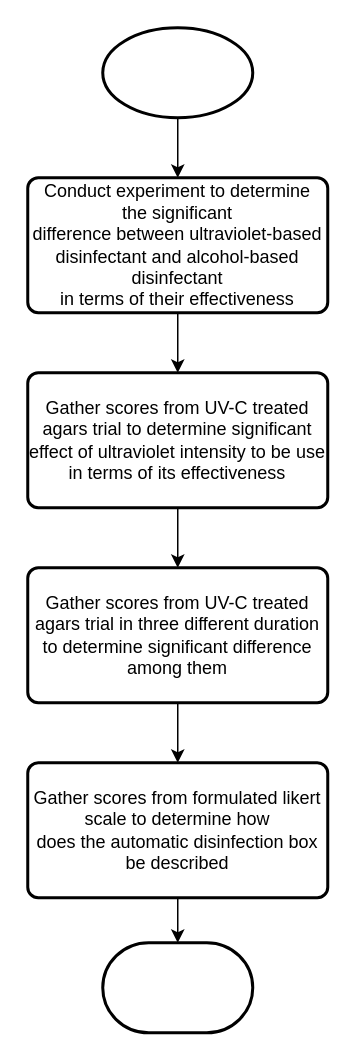
Some shapes in this 354 by 1059 pixel diagram are drawn without their labels. The shapes that lost their labels are listed below. From the top down, each one's box as (x1, y1, x2, y2) in pixels, then its label:
(100, 26, 254, 118): Start
(100, 940, 254, 1034): End
